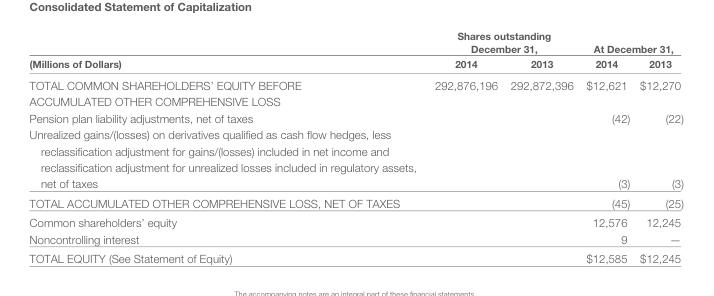table: (28, 29, 682, 264)
table column: (28, 29, 424, 264), (424, 29, 503, 264), (503, 29, 579, 264), (579, 29, 634, 264), (634, 29, 682, 264)
table column header: (28, 29, 682, 73)
table projected row header: (28, 92, 682, 109)
table row: (28, 125, 682, 192), (28, 29, 682, 55), (28, 192, 682, 212), (28, 73, 682, 92), (28, 55, 682, 73), (28, 212, 682, 230), (28, 230, 682, 248), (28, 92, 682, 109), (28, 109, 682, 125), (28, 248, 682, 264)
table spanning cell: (28, 29, 424, 73), (424, 29, 579, 55), (579, 29, 682, 55)
